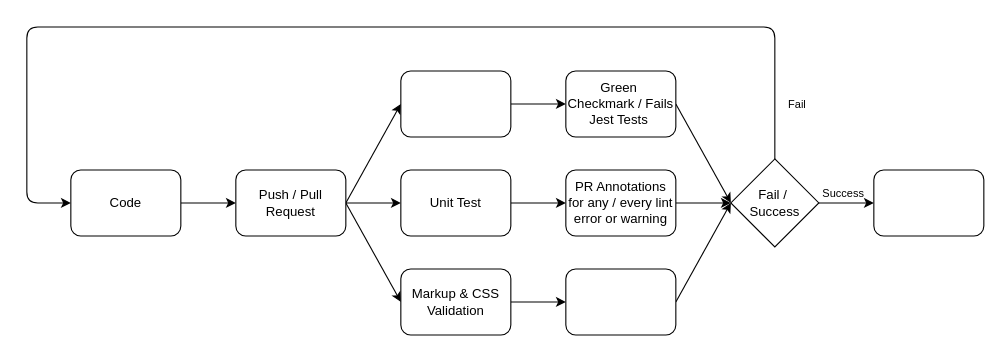
Some shapes in this 1003 by 354 pixel diagram are drawn without their labels. Each missing label, with the centre of its shape:
"Able to Merge" goes at pixel 928 202.
"Linting" goes at pixel 455 103.
"Valid / Invalid HMTL or CSS" goes at pixel 620 301.
